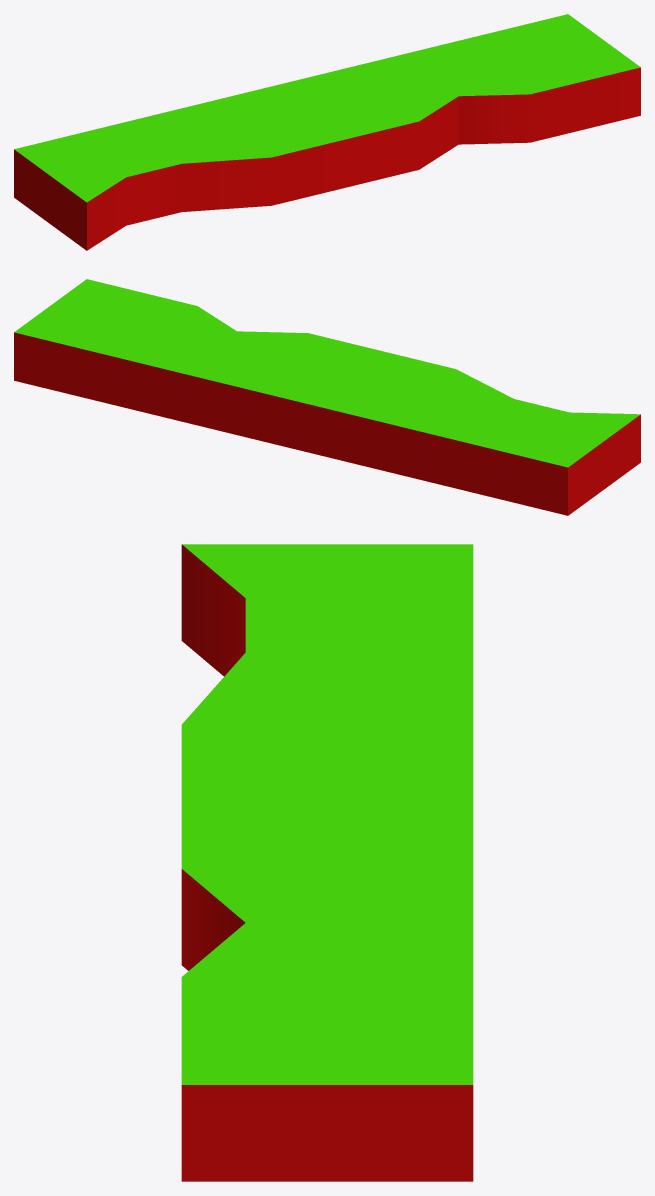
Rendered from GroundMediumCrackedRight.fbx.
3 views of the same model, one above another, from view 1: azimuth 30°, elevation 25°; view 2: azimuth 150°, elevation 25°; view 3: azimuth 270°, elevation 25° (orthographic). The views are drawn at different scales.
Visible parts, largest first — view 1: polySurface2; view 2: polySurface2; view 3: polySurface2.
Boxes of the visible parts, x1=… form: polySurface2: x1=14, y1=14, x2=640, y2=250; polySurface2: x1=14, y1=279, x2=640, y2=515; polySurface2: x1=181, y1=544, x2=473, y2=1181.
Size of the model in its own units: 6 by 0.5 by 1.37.
